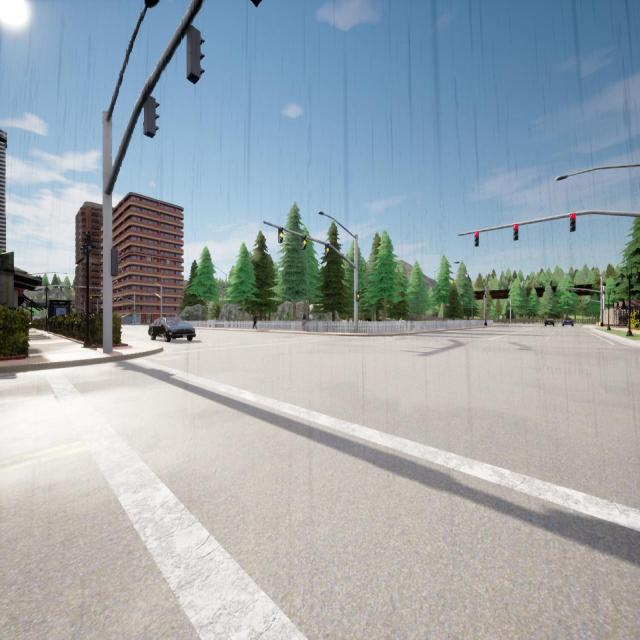Pedestrian: (302, 312, 306, 331), (253, 314, 257, 330)
Traffic_Signs: (499, 315, 502, 319)
Vehicle: (149, 316, 195, 342), (562, 318, 574, 327), (544, 318, 554, 326)
traffic_light: (186, 26, 205, 84), (144, 95, 159, 138), (112, 248, 118, 274), (570, 214, 576, 231), (278, 228, 283, 242), (514, 224, 518, 240), (474, 232, 478, 246), (302, 236, 306, 249), (325, 245, 329, 255), (356, 291, 359, 301), (90, 295, 92, 299), (114, 296, 116, 300), (101, 296, 103, 299), (580, 298, 581, 303), (567, 299, 568, 303), (134, 310, 135, 314), (558, 300, 558, 303), (570, 288, 570, 292)
